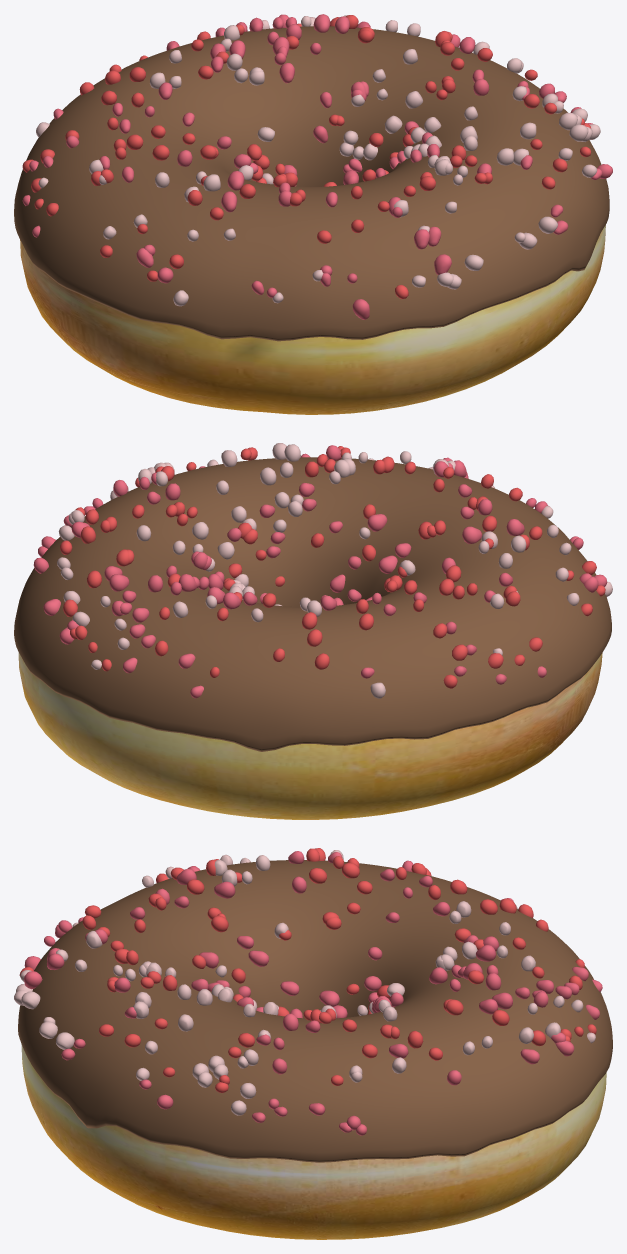
File: coffee rad and white.glb
The picture shows the model from 3 angles, top to bottom: view 1: azimuth 30°, elevation 25°; view 2: azimuth 150°, elevation 25°; view 3: azimuth 270°, elevation 25°; orthographic projection. The views are drawn at different scales.
Parts seen in each view (by area): view 1: coffee, Torus, red and white; view 2: coffee, Torus, red and white; view 3: coffee, Torus, red and white.
Part boxes in pixels (left/top/right/bottom): coffee: left=14, top=26, right=609, bottom=341; Torus: left=20, top=225, right=605, bottom=414; red and white: left=22, top=14, right=612, bottom=319; coffee: left=14, top=457, right=611, bottom=751; Torus: left=18, top=652, right=602, bottom=819; red and white: left=33, top=443, right=612, bottom=698; coffee: left=18, top=860, right=612, bottom=1162; Torus: left=21, top=1044, right=606, bottom=1239; red and white: left=14, top=848, right=602, bottom=1135.
Size of the model in its own units: 0.2003 by 0.0774 by 0.1991.
5 materials, 1 textured.
